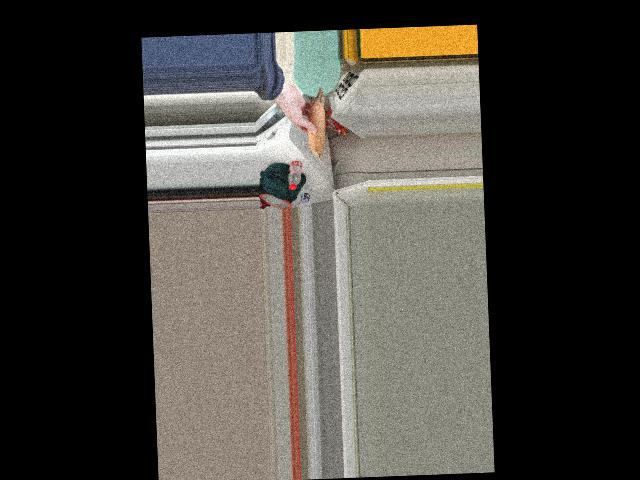sweet_potato: (303, 92, 327, 152)
